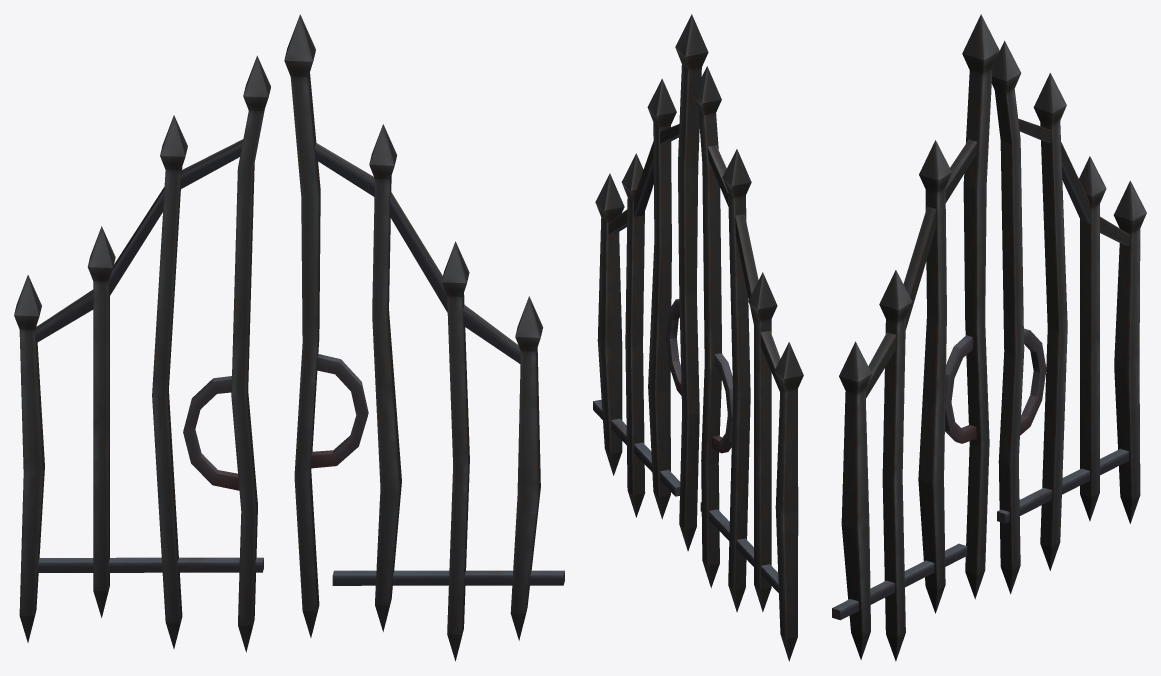
The model's file is Area13_14.fbx.
3 views of the same model, side by side, from view 1: azimuth 30°, elevation 25°; view 2: azimuth 150°, elevation 25°; view 3: azimuth 270°, elevation 25° (orthographic). The views are drawn at different scales.
Parts seen in each view (by area): view 1: Area13_14; view 2: Area13_14; view 3: Area13_14.
Boxes of the visible parts, left/top/right/bottom form: Area13_14: left=14, top=14, right=564, bottom=661; Area13_14: left=593, top=14, right=803, bottom=661; Area13_14: left=832, top=14, right=1146, bottom=661.
Size of the model in its own units: 863 by 1333 by 636.
